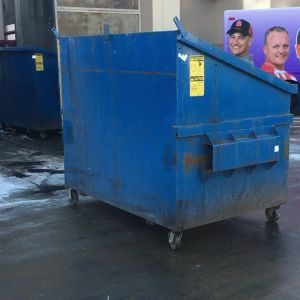Dumpster: (49, 18, 300, 253)
Person: (260, 19, 297, 83), (226, 19, 257, 63)
